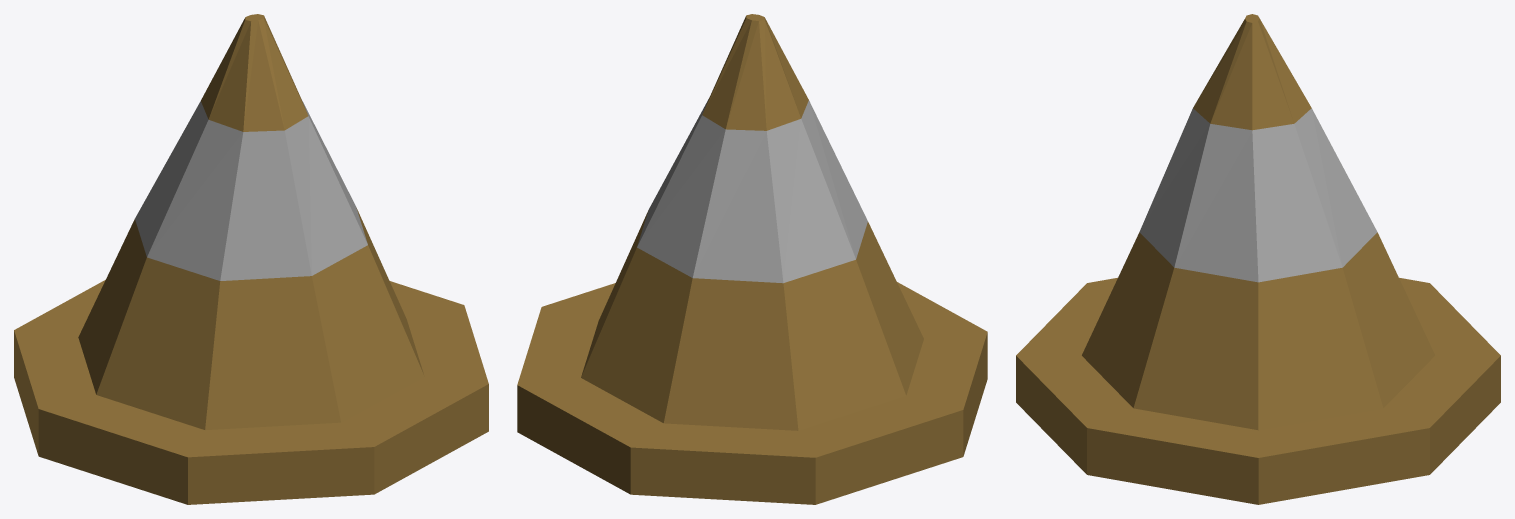
File: Traffic Cone Colored.fbx
3 renders of one model, left to right at view 1: azimuth 30°, elevation 25°; view 2: azimuth 150°, elevation 25°; view 3: azimuth 270°, elevation 25°, orthographic.
Visible parts, largest first — view 1: pasted__pCylinder6; view 2: pasted__pCylinder6; view 3: pasted__pCylinder6.
Part boxes in pixels (x1,y1,x2,y2): pasted__pCylinder6: (14,14,488,504); pasted__pCylinder6: (517,14,987,504); pasted__pCylinder6: (1016,14,1500,504).
Bounding box in the file's own units: 2 × 1.75 × 2.
